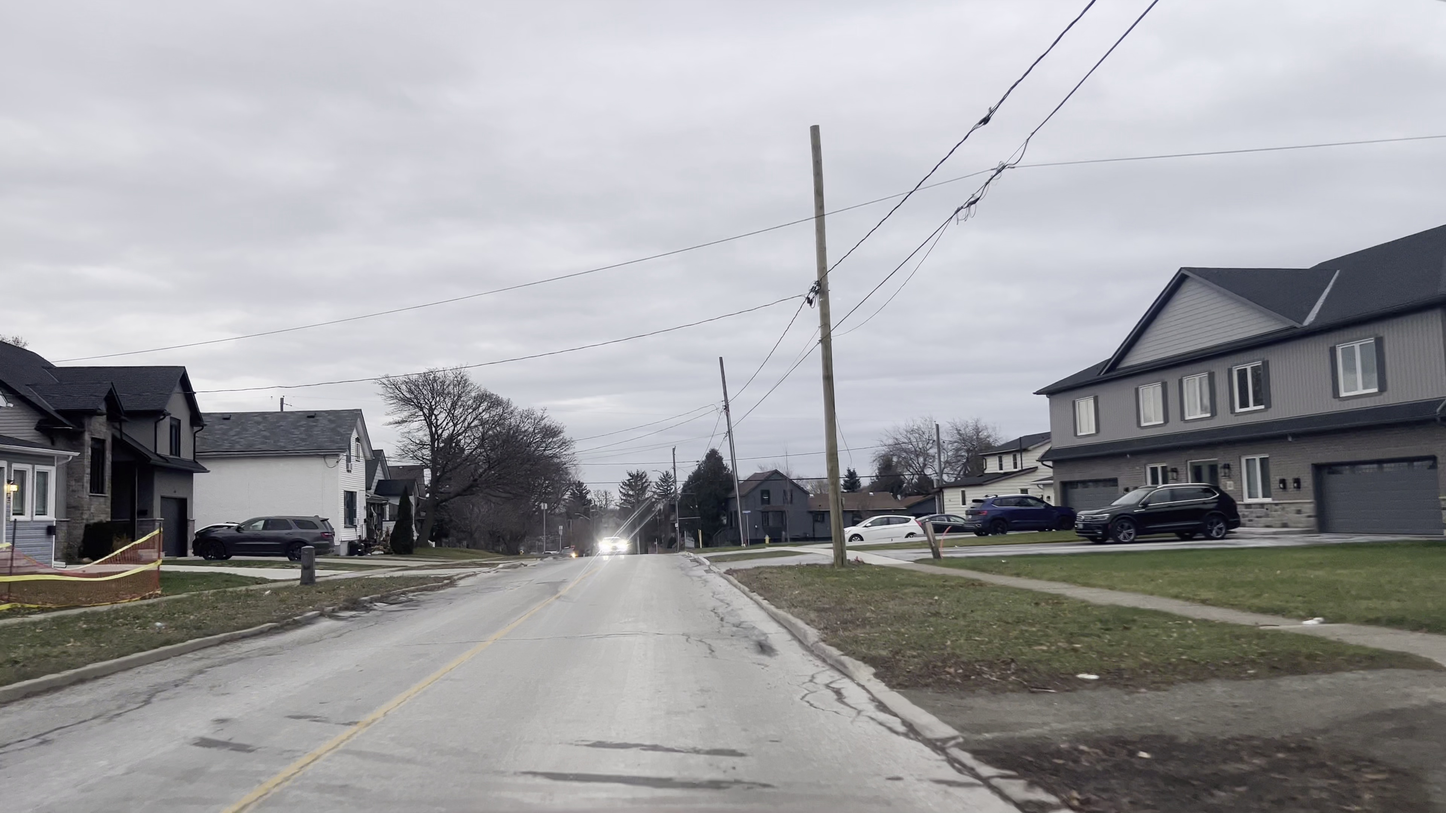cracks: (800, 670, 878, 727), (724, 612, 768, 661)
